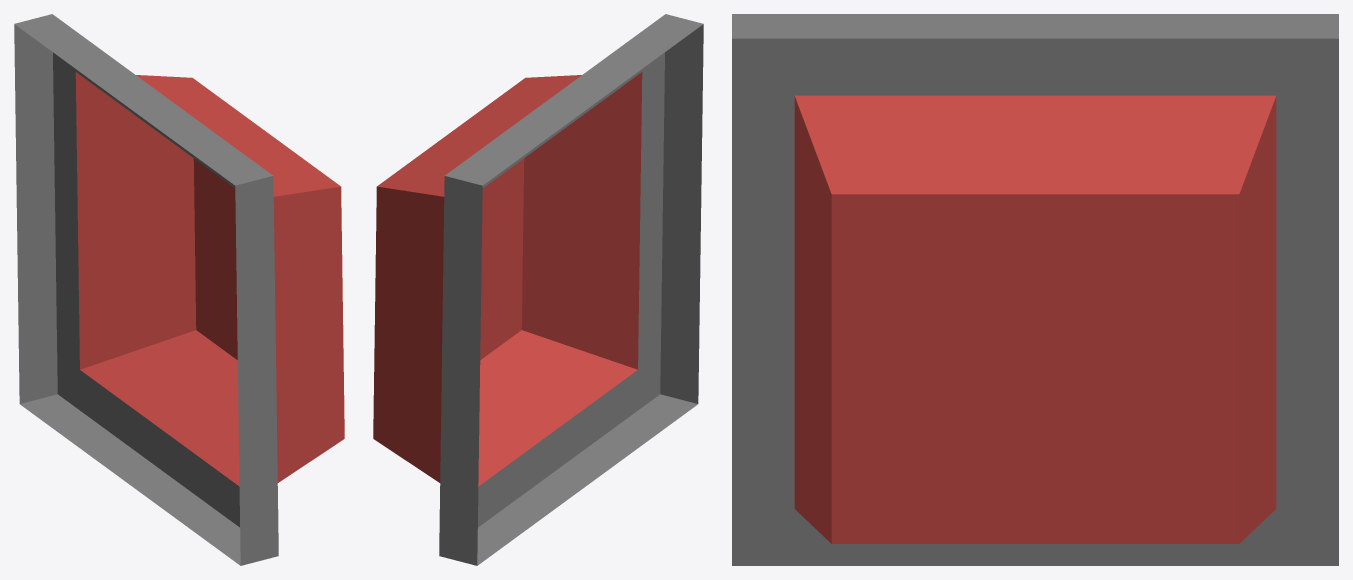
File: button1.fbx
3 renders of one model, left to right at view 1: azimuth 30°, elevation 25°; view 2: azimuth 150°, elevation 25°; view 3: azimuth 270°, elevation 25°, orthographic. The views are drawn at different scales.
Visible parts, largest first — view 1: Cube.001; view 2: Cube.001; view 3: Cube.001.
Part boxes in pixels (<box>): Cube.001: <box>14,14,344,565</box>; Cube.001: <box>373,14,703,565</box>; Cube.001: <box>732,14,1338,565</box>.
Size of the model in its own units: 13.48 by 33.79 by 35.43.
